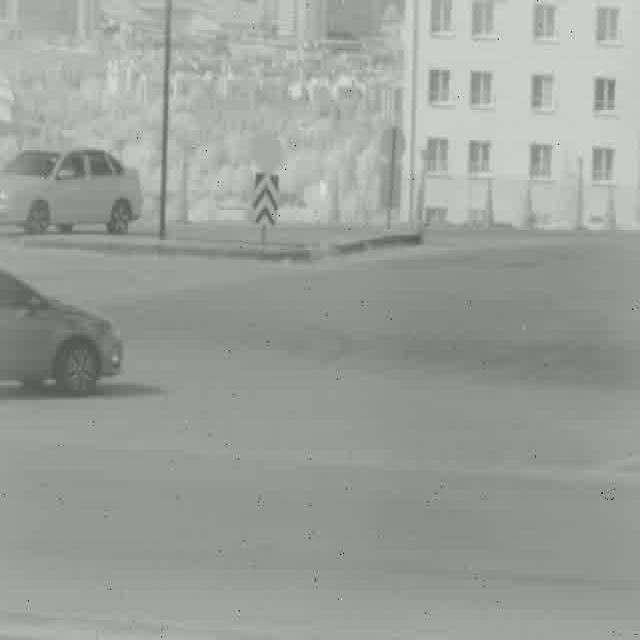Car: (0, 268, 120, 394), (0, 146, 142, 234)
